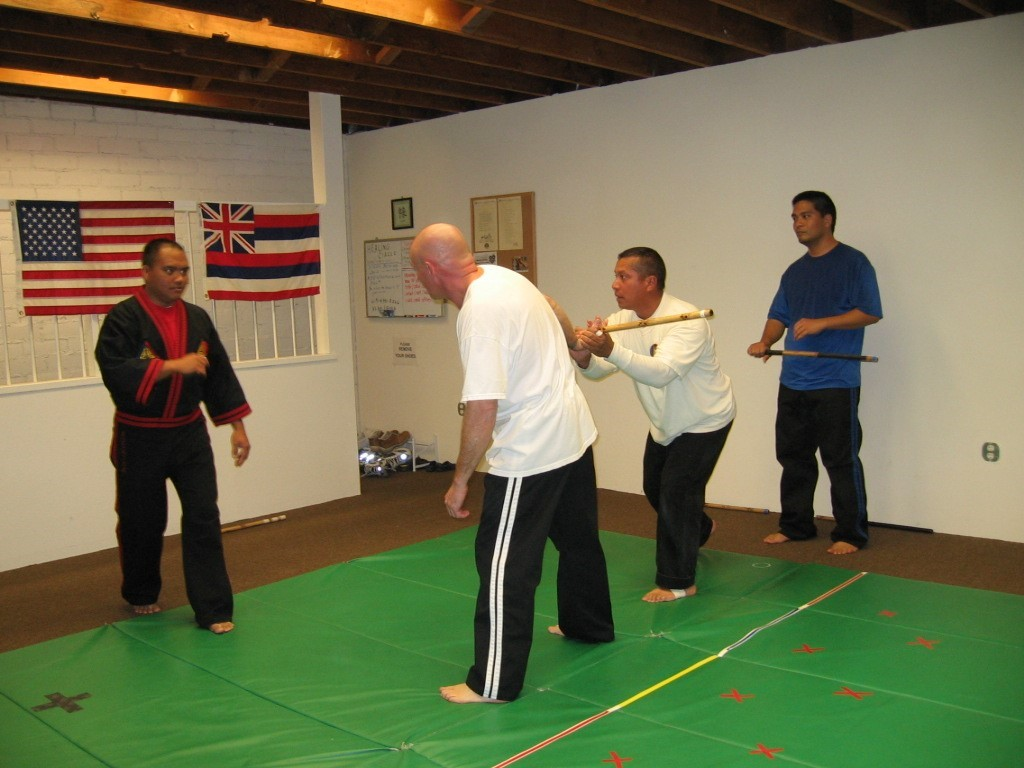baston_e: (605, 308, 706, 333), (768, 349, 872, 363), (220, 515, 281, 533)
baston_v: (706, 306, 715, 317), (871, 355, 880, 362), (281, 513, 287, 520)
